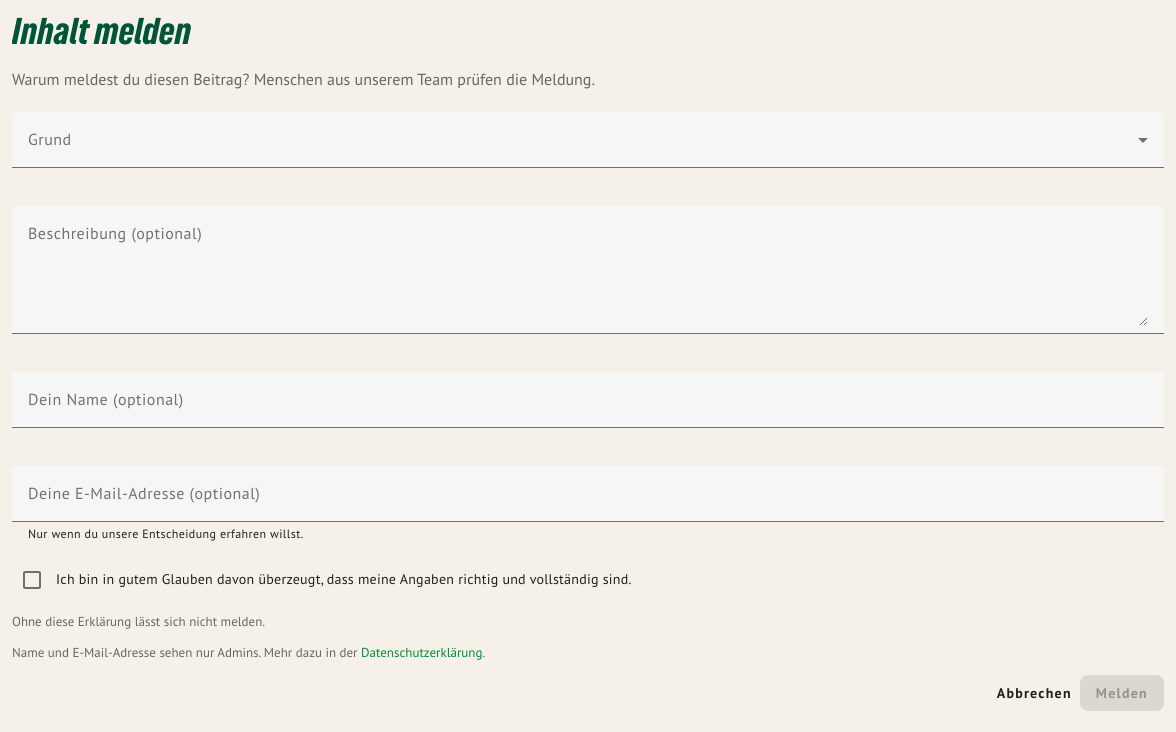
Test case: ReportDialogComponent › prüft die E-Mail-Adresse wie der Suchdienst, etwa ohne .local
This screenshot has width=1176, height=732.
Click the checkbox.
click(342, 580)  # box [52,570,632,590]
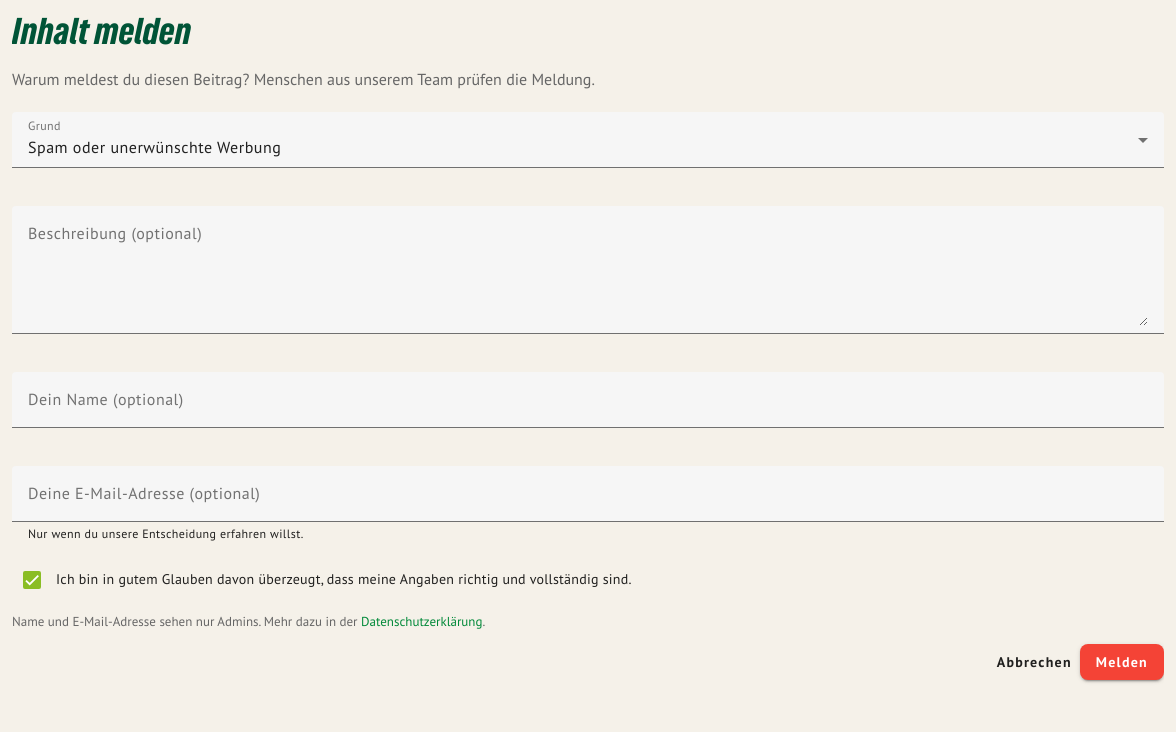
Type "anna@rechner.local" into the field named "melder_email".
click(588, 502); type("anna@rechner.local")  # box [28,490,1148,514]
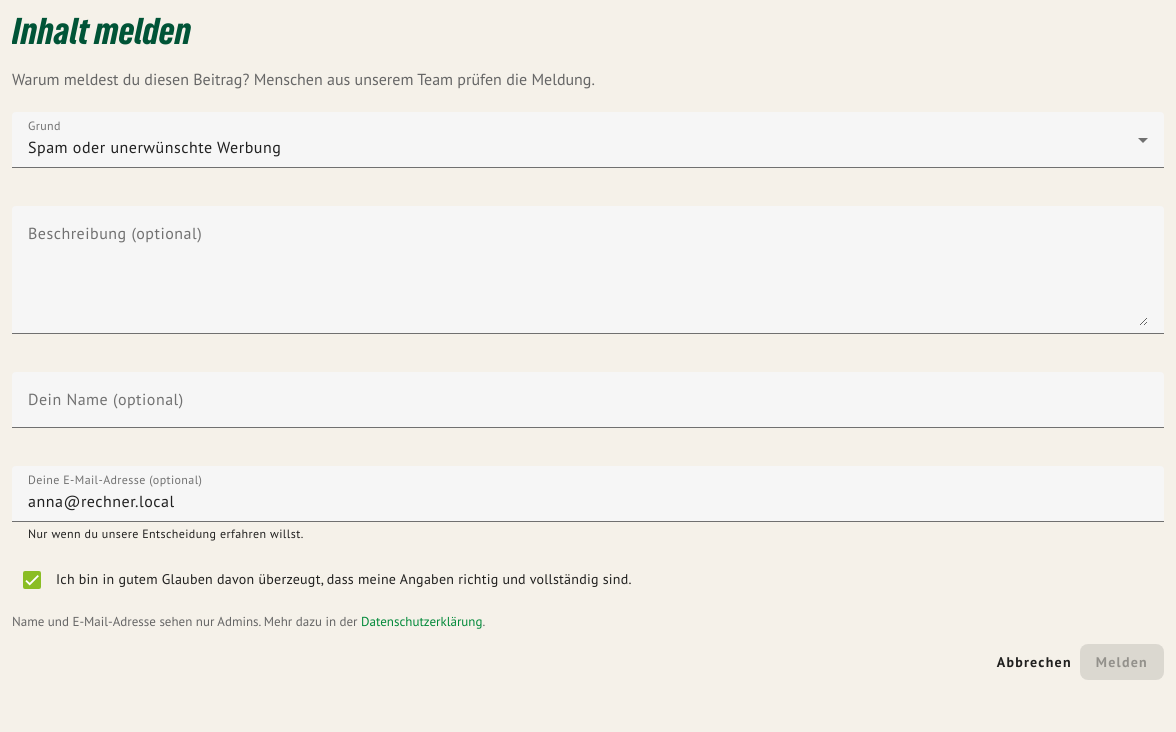
Expected: the button with test id "melden-senden" is disabled, [1080,644,1164,680]
